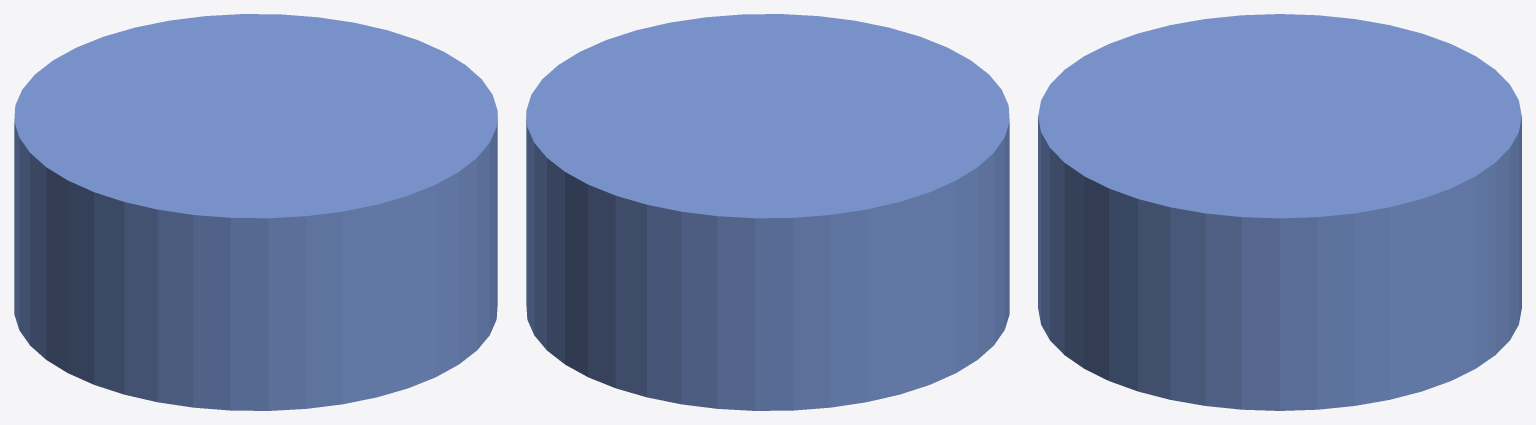
The model's file is rec_bottle_cap_0077.glb.
The picture shows the model from 3 angles, left to right: view 1: azimuth 30°, elevation 25°; view 2: azimuth 150°, elevation 25°; view 3: azimuth 270°, elevation 25°; orthographic projection.
Visible parts, largest first — view 1: z-up-to-y-up; view 2: z-up-to-y-up; view 3: z-up-to-y-up.
Boxes of the visible parts, x1,y1,x2,y2 form: z-up-to-y-up: [14, 14, 497, 410]; z-up-to-y-up: [526, 14, 1009, 410]; z-up-to-y-up: [1038, 14, 1521, 410].
Size of the model in its own units: 0.0267 by 0.0117 by 0.0267.
